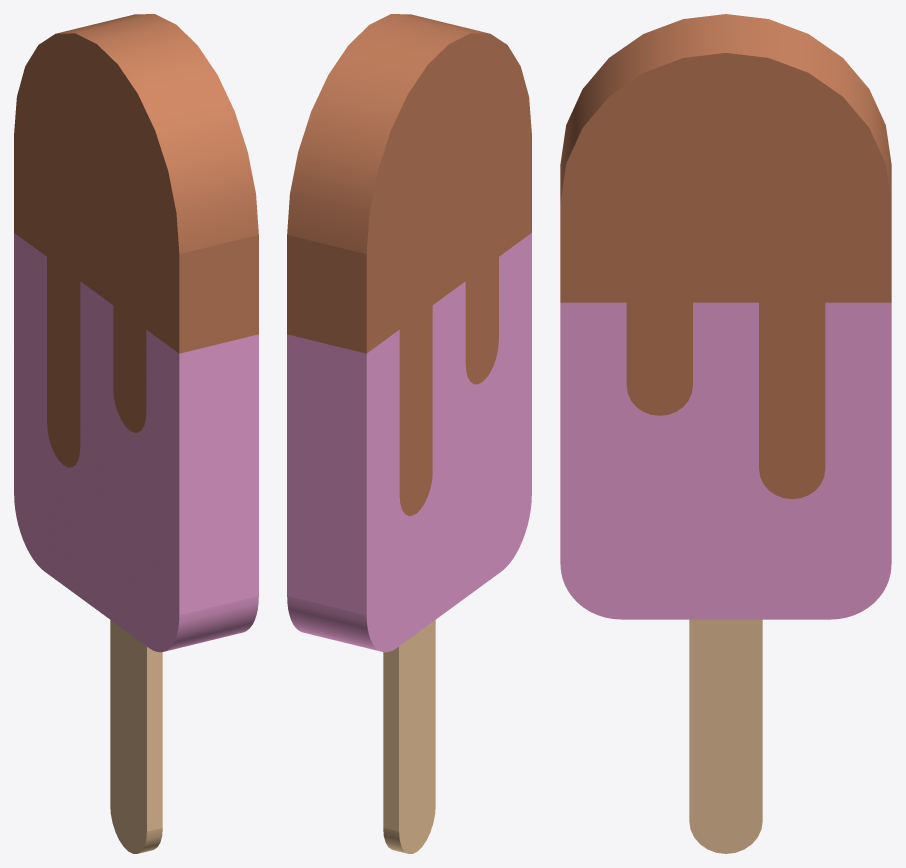
The model's file is Popsicle Chocolate.glb.
3 renders of one model, left to right at view 1: azimuth 30°, elevation 25°; view 2: azimuth 150°, elevation 25°; view 3: azimuth 270°, elevation 25°, orthographic.
Visible parts, largest first — view 1: Popsicle Chocolate; view 2: Popsicle Chocolate; view 3: Popsicle Chocolate.
Part boxes in pixels (x1,y1,x2,y2): Popsicle Chocolate: [14, 14, 258, 853]; Popsicle Chocolate: [287, 14, 531, 853]; Popsicle Chocolate: [560, 14, 891, 853].
Bounding box in the file's own units: 0.05 × 0.49 × 0.18.
